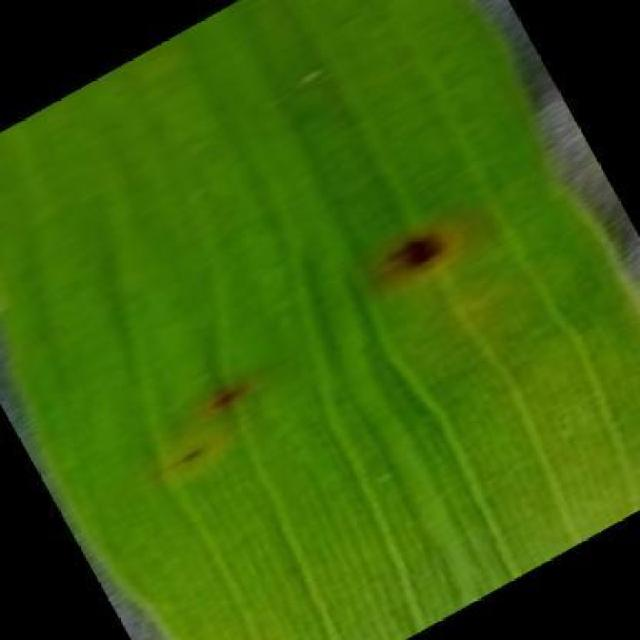Leaf_Blast: (352, 199, 472, 310), (192, 364, 270, 434), (153, 426, 229, 492), (273, 45, 352, 107), (307, 177, 364, 225), (324, 1, 376, 41)
